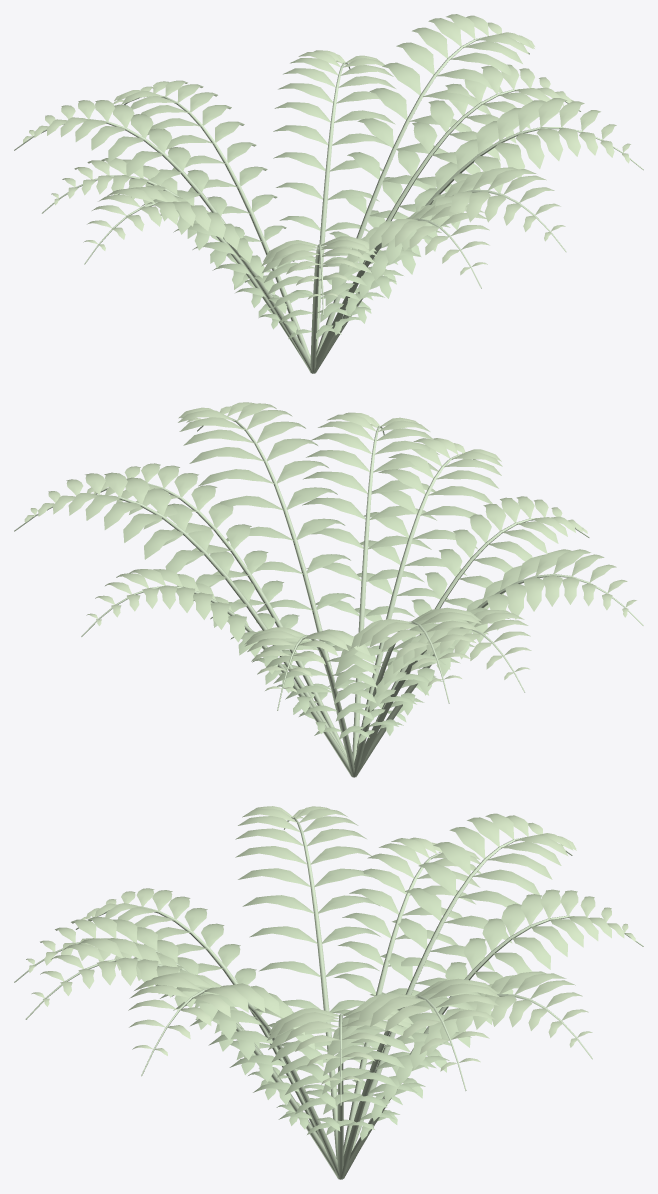
The model's file is SM_WLA_Fern_A.fbx.
The picture shows the model from 3 angles, top to bottom: view 1: azimuth 30°, elevation 25°; view 2: azimuth 150°, elevation 25°; view 3: azimuth 270°, elevation 25°; orthographic projection. The views are drawn at different scales.
Visible parts, largest first — view 1: SM_WLA_Fern_A; view 2: SM_WLA_Fern_A; view 3: SM_WLA_Fern_A.
Boxes of the visible parts, x1,y1,x2,y2 form: SM_WLA_Fern_A: (14, 14, 643, 373); SM_WLA_Fern_A: (14, 402, 643, 777); SM_WLA_Fern_A: (14, 806, 643, 1179).
Size of the model in its own units: 1.45 by 1.56 by 0.743.
